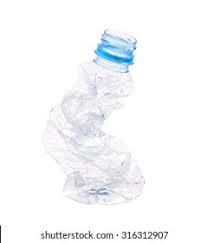plastic: (35, 24, 160, 211)
